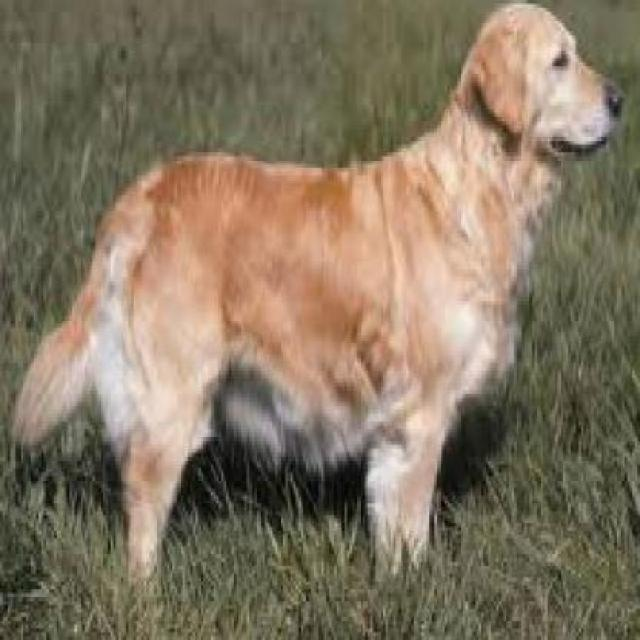Dog: (15, 3, 632, 597)
